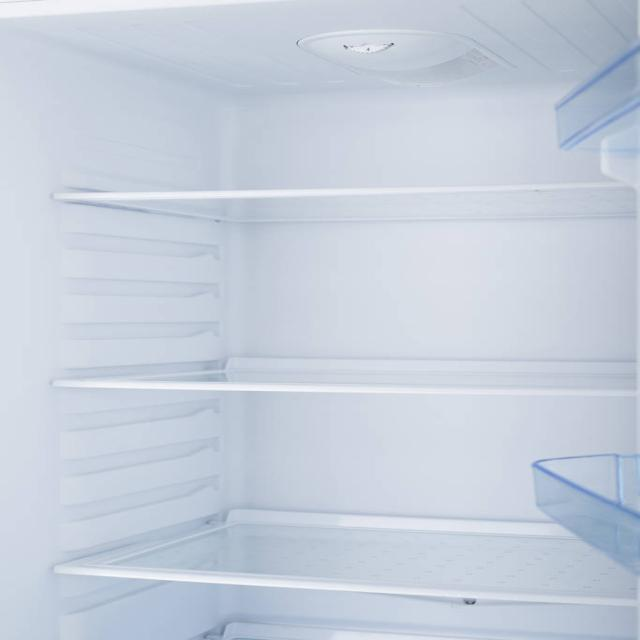fridge-space: (63, 322, 640, 389), (63, 128, 615, 189), (376, 488, 640, 594), (84, 488, 372, 582)
